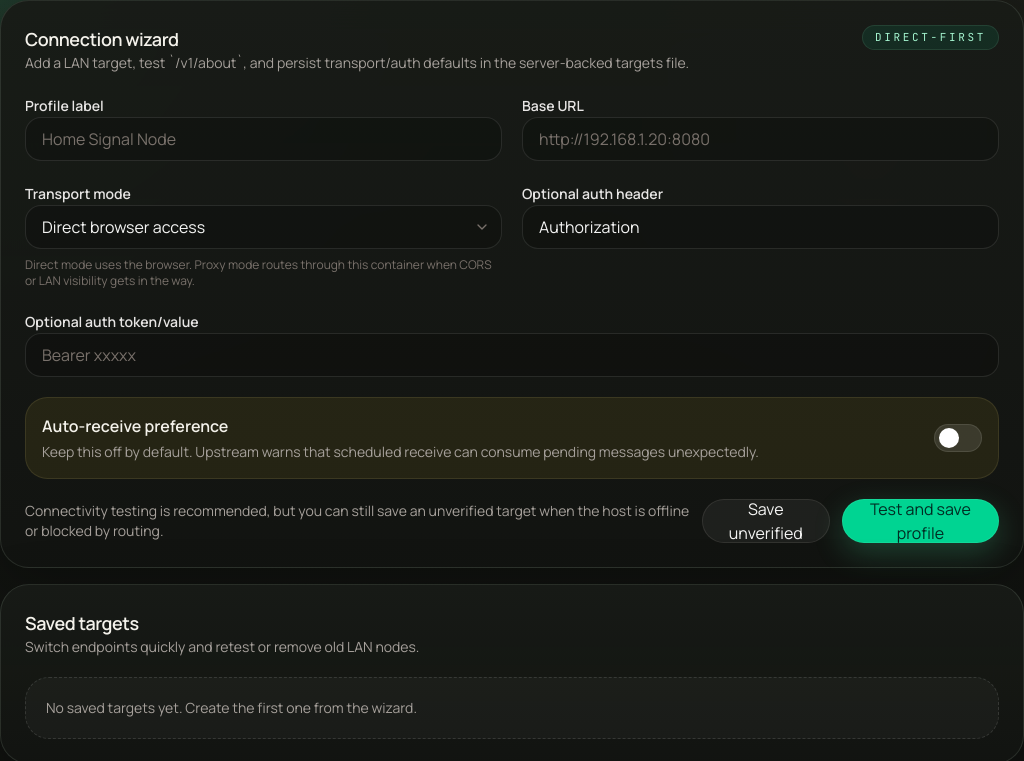
ConnectRoute › saves an unverified target when connectivity fails
Type "Offline Node" into the field labelled "Profile label" at (264, 139), box [25,117,502,161]
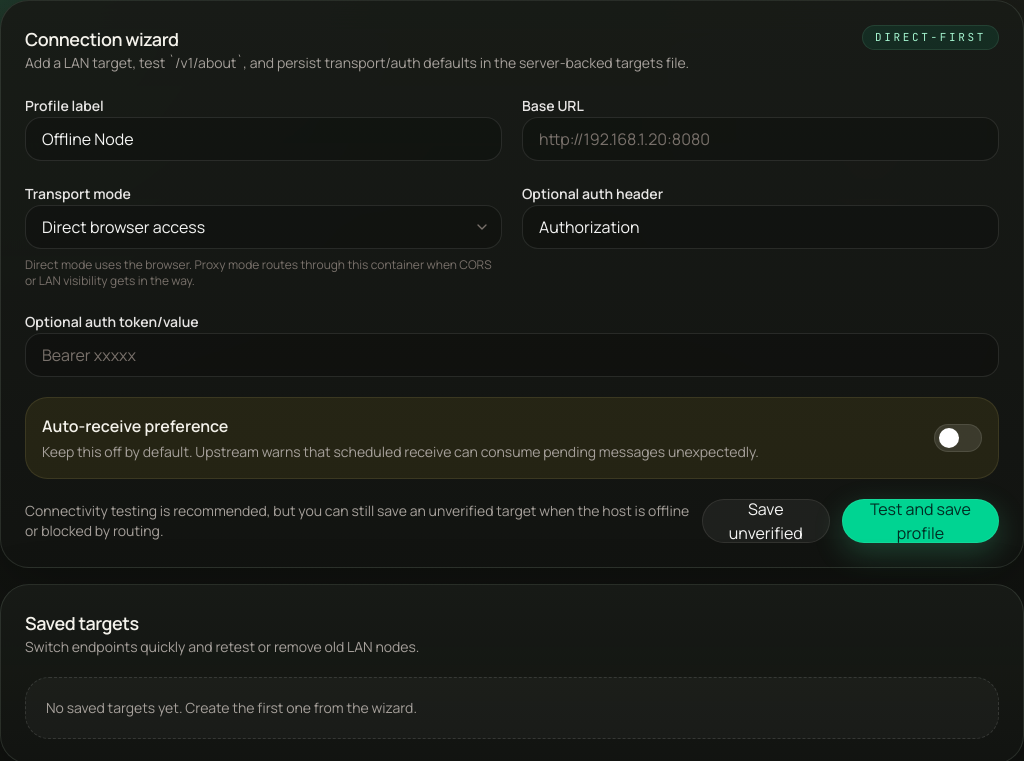
Type "http://192.168.23.41:8080" into the field labelled "Base URL" at (760, 139), box [522,117,999,161]
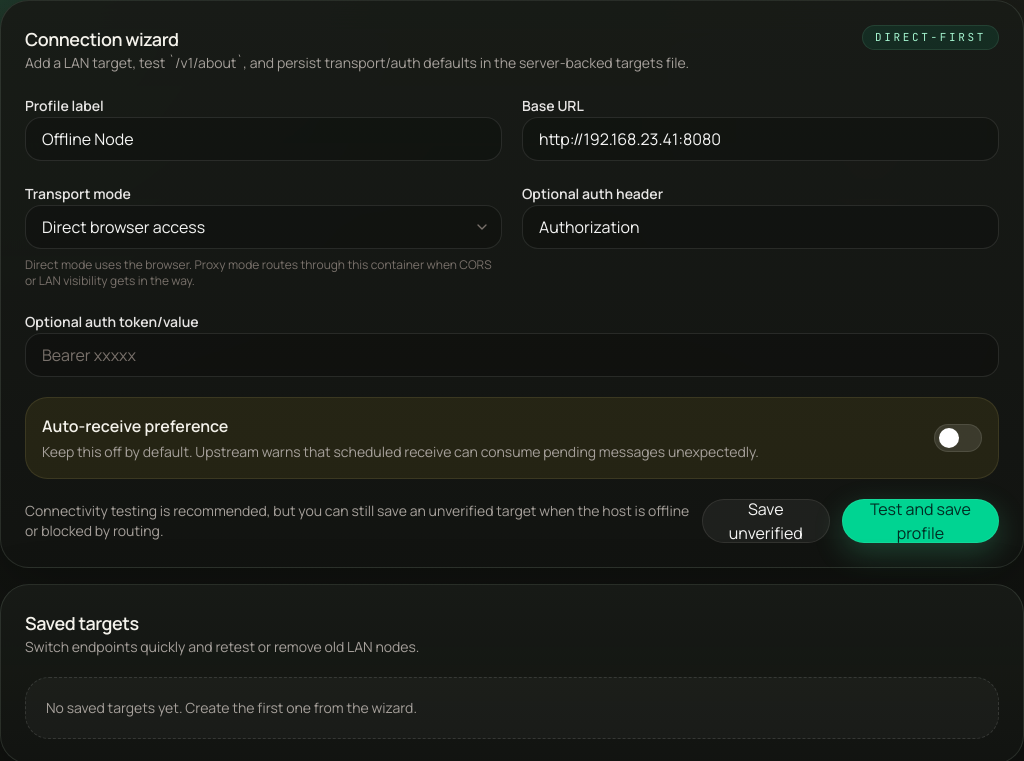
Click the button "Save unverified" at (766, 521), box [702,499,830,543]
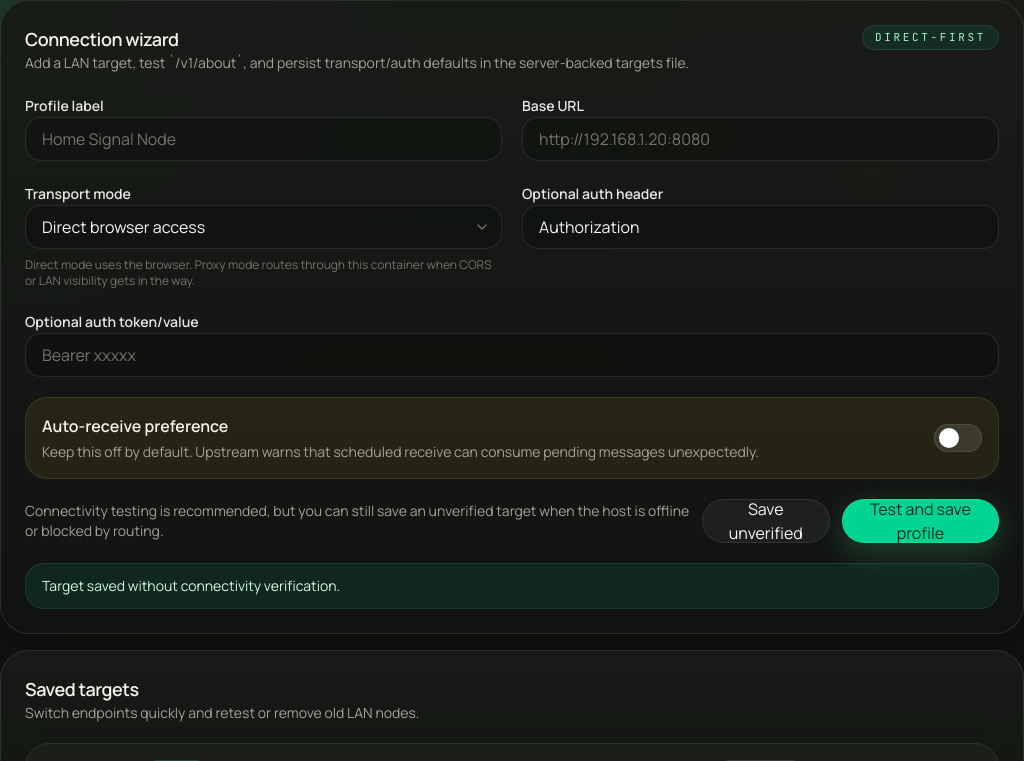
Now the text "Target saved without connectivity verification." is shown, box [25,563,999,609]
